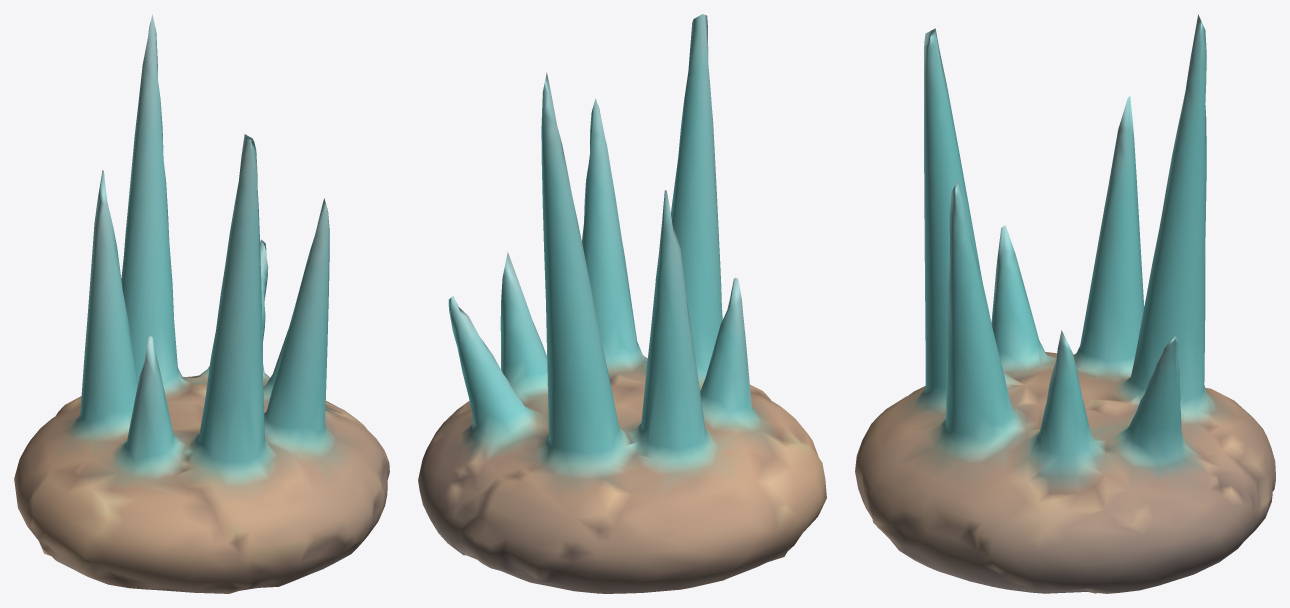
File: env_fr_crystal.glb
3 views of the same model, side by side, from view 1: azimuth 30°, elevation 25°; view 2: azimuth 150°, elevation 25°; view 3: azimuth 270°, elevation 25° (orthographic). The views are drawn at different scales.
Parts seen in each view (by area): view 1: geometry_0; view 2: geometry_0; view 3: geometry_0.
Boxes of the visible parts, x1=… form: geometry_0: x1=14, y1=14, x2=389, y2=593; geometry_0: x1=418, y1=14, x2=826, y2=593; geometry_0: x1=855, y1=14, x2=1275, y2=593.
Size of the model in its own units: 2.22 by 2.97 by 2.21.
